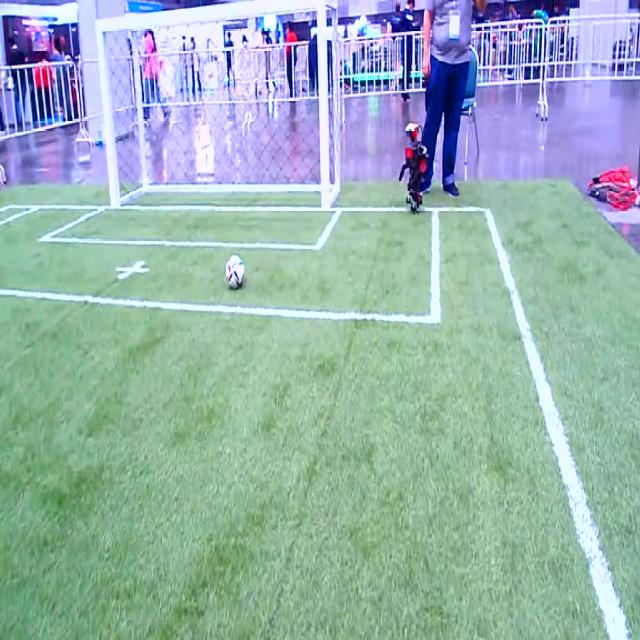ball: (226, 255, 244, 289)
